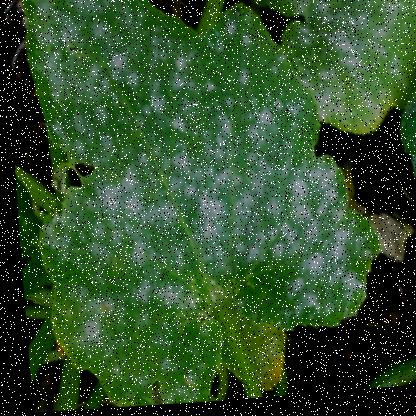PowderyMildew: (86, 56, 295, 247), (65, 199, 200, 357), (213, 165, 339, 295), (39, 0, 159, 128), (307, 0, 415, 106)
